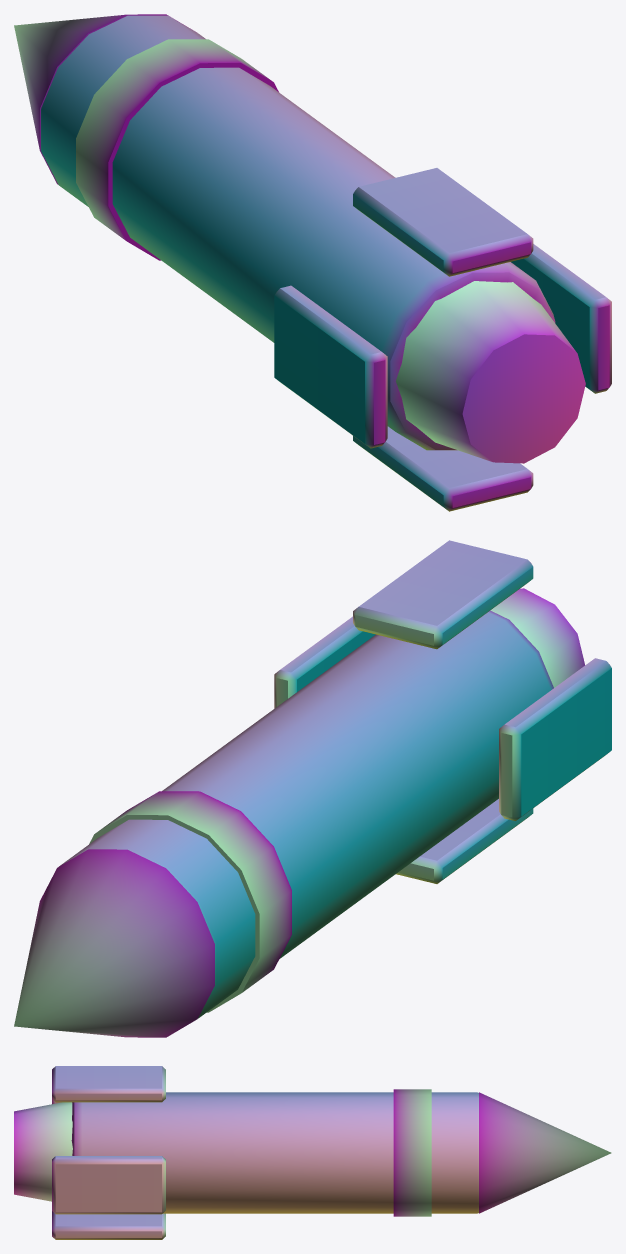
The model's file is fx_rocket.glb.
3 views of the same model, one above another, from view 1: azimuth 30°, elevation 25°; view 2: azimuth 150°, elevation 25°; view 3: azimuth 270°, elevation 25° (orthographic). The views are drawn at different scales.
Visible parts, largest first — view 1: rocket; view 2: rocket; view 3: rocket.
Part boxes in pixels (left/top/right/bottom): rocket: left=14, top=14, right=611, bottom=511; rocket: left=14, top=540, right=611, bottom=1037; rocket: left=14, top=1066, right=611, bottom=1239.
Size of the model in its own units: 0.044 by 0.044 by 0.1575.
